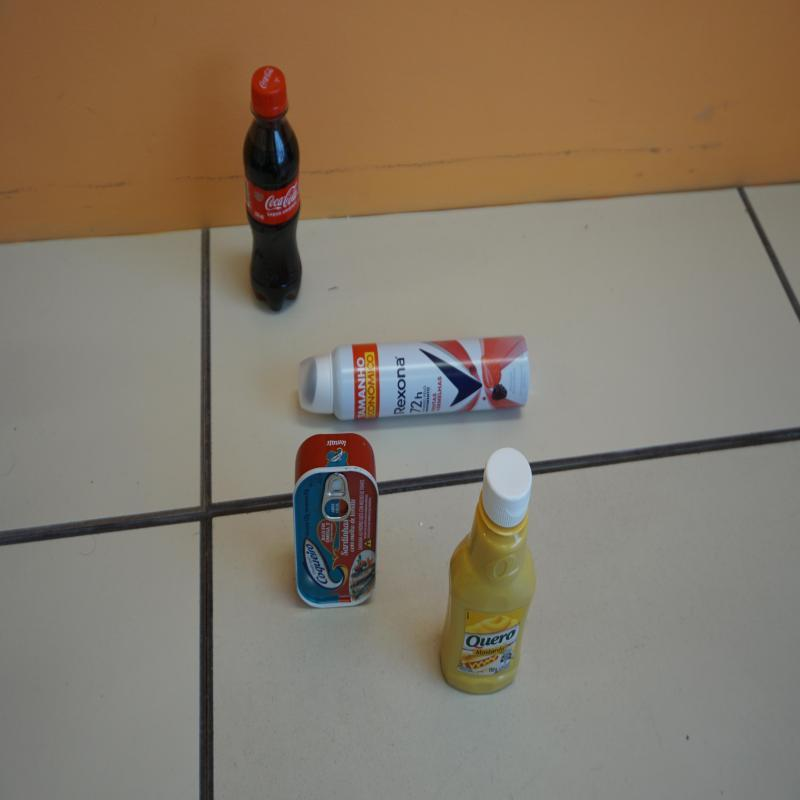Coke: (242, 67, 304, 316)
Mustard: (439, 449, 538, 700)
TunaCan: (292, 434, 379, 610)
